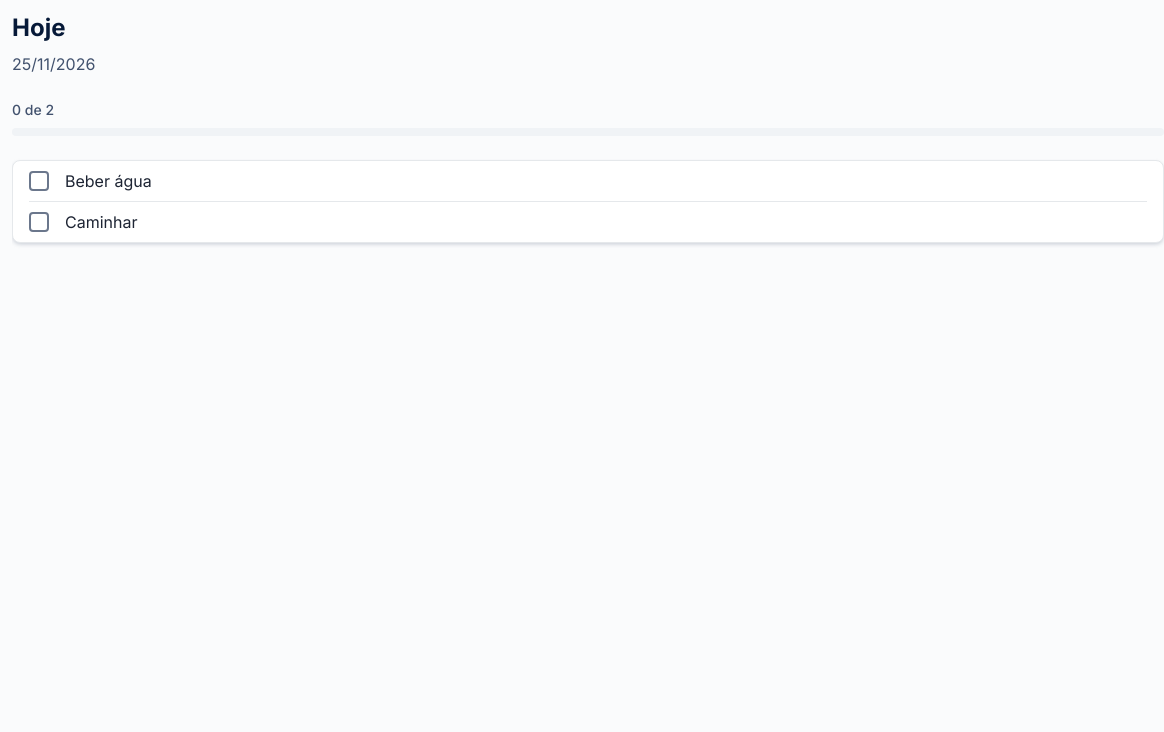
it: Today › deve voltar atrás, avisar e permitir tentar de novo quando salvar falha
What coordinates should you click on to do the following:
click the checkbox labelled "Beber água"
I would click on:
 (39, 181)
Its box is top-left (29, 171), bottom-right (49, 191).
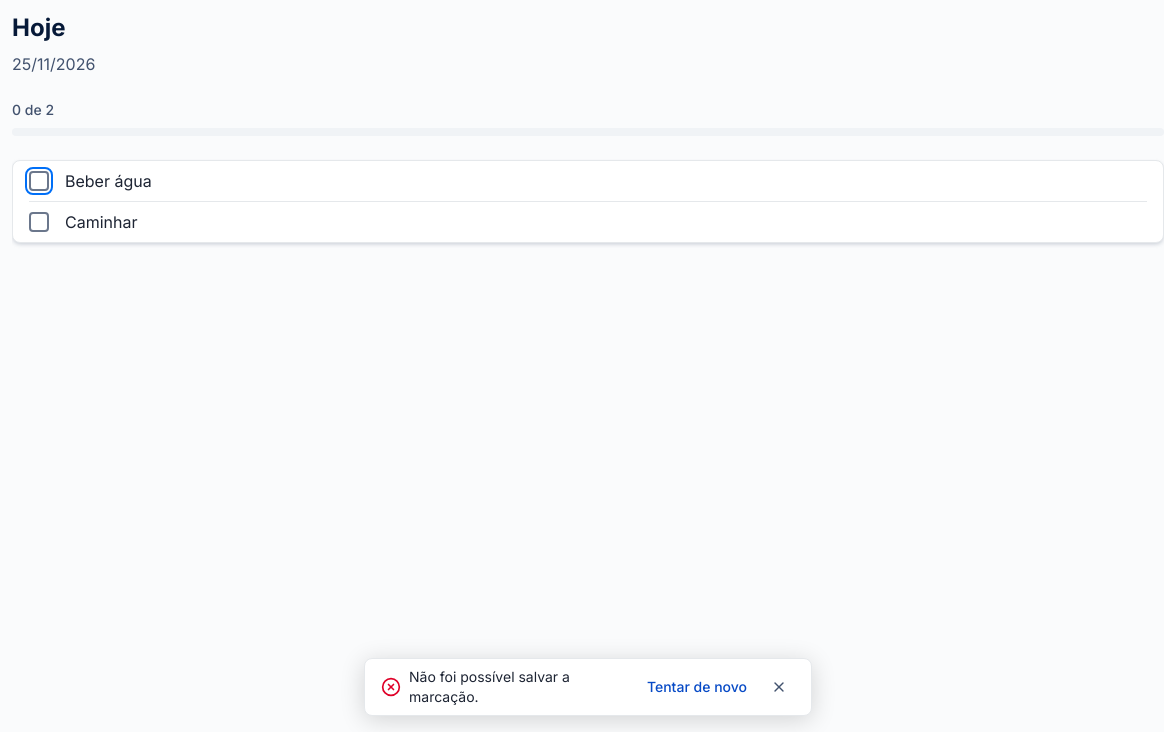
Expected: the text "0 de 2" is shown, top-left (12, 101), bottom-right (54, 118)
Now the message shows "Não foi possível salvar a marcação.", box top-left (409, 668), bottom-right (570, 705)
What coordinates should you click on to do the following:
click the button "Tentar de novo"
I would click on:
 (697, 687)
Its box is top-left (639, 671), bottom-right (755, 703).
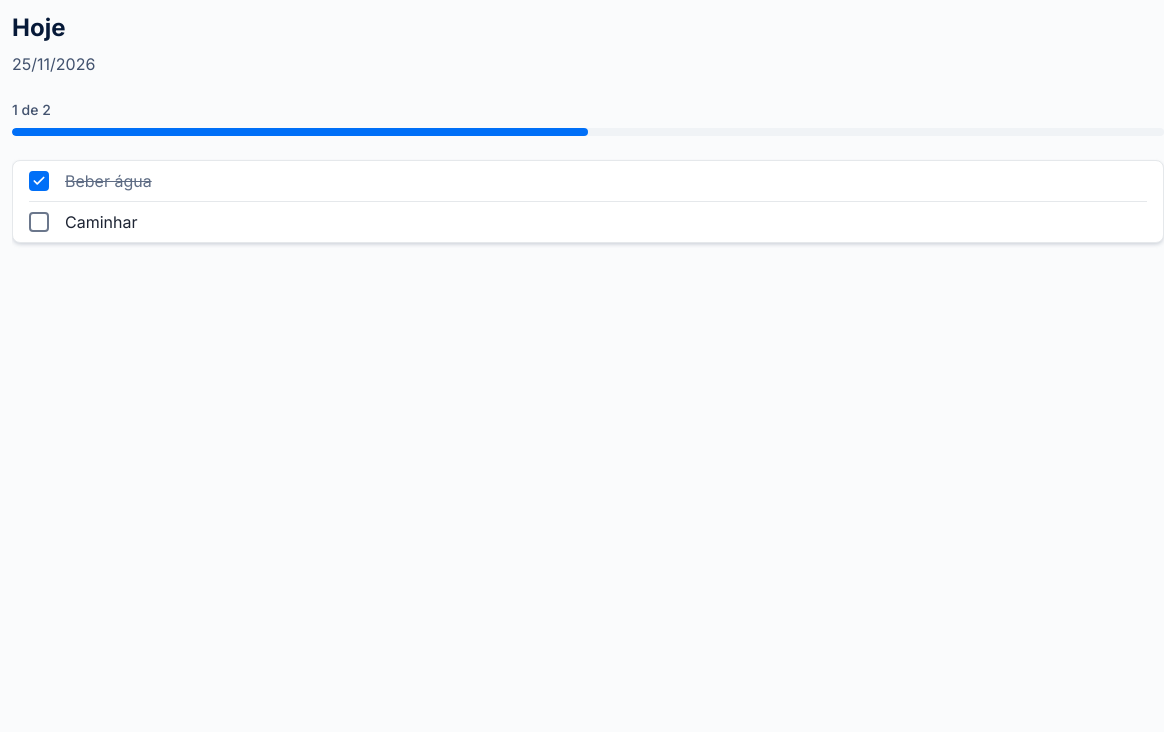
Now the text "1 de 2" is shown, box top-left (12, 101), bottom-right (51, 118)
Now the message "Não foi possível salvar a marcação. Tentar de novo" is gone
